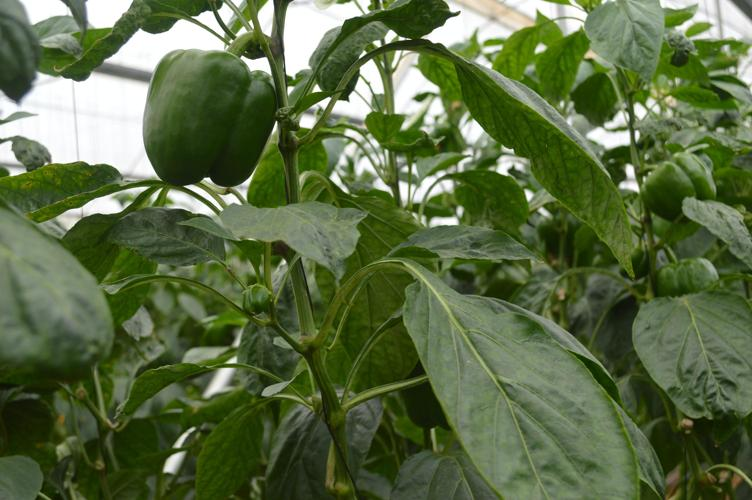BellPepper: (134, 42, 288, 203), (650, 149, 734, 258), (649, 249, 720, 301)
